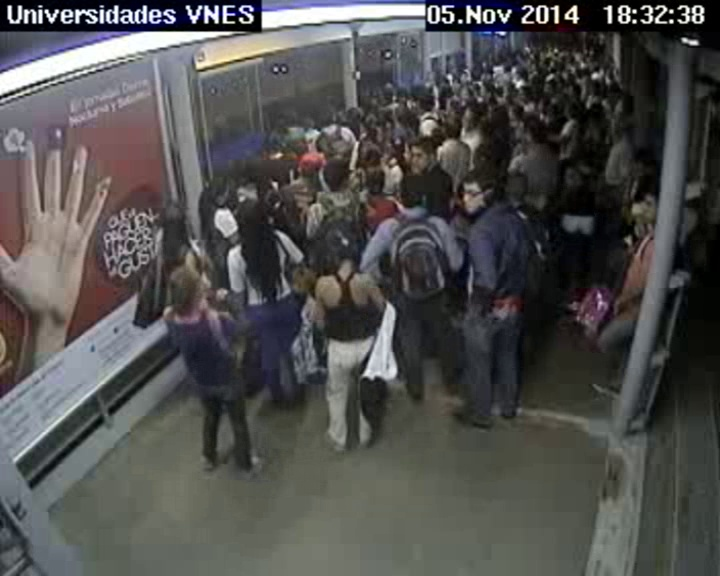person: (168, 267, 206, 309), (460, 175, 501, 212), (235, 198, 273, 236), (640, 187, 668, 225), (409, 139, 440, 172), (157, 204, 188, 237), (335, 235, 365, 268), (323, 158, 354, 188), (396, 178, 427, 207), (204, 175, 232, 207), (297, 152, 323, 177), (507, 171, 531, 197), (472, 147, 494, 173), (561, 162, 583, 185), (524, 121, 546, 143), (243, 157, 265, 179), (366, 171, 386, 193), (264, 139, 283, 159), (318, 108, 339, 126), (634, 151, 651, 172), (564, 101, 582, 120), (445, 119, 463, 138), (644, 162, 662, 181), (387, 138, 405, 157), (364, 148, 383, 166), (277, 110, 295, 128), (492, 106, 509, 124), (399, 111, 417, 128), (347, 107, 364, 124), (417, 98, 433, 115), (612, 127, 628, 143), (588, 79, 603, 96), (589, 104, 604, 120), (365, 128, 380, 144), (520, 85, 534, 99), (483, 125, 498, 138), (606, 88, 619, 102), (537, 96, 549, 111), (510, 106, 523, 119), (569, 86, 582, 99), (379, 111, 393, 123), (477, 103, 489, 116), (396, 93, 409, 105), (514, 69, 525, 80), (605, 74, 615, 85), (544, 57, 554, 67), (548, 79, 558, 89), (485, 83, 495, 93), (504, 95, 514, 105), (450, 101, 460, 111), (514, 51, 524, 61), (561, 57, 571, 66), (607, 57, 616, 67), (488, 97, 498, 106), (467, 97, 476, 107), (530, 52, 539, 62), (588, 47, 597, 56), (590, 63, 599, 72), (568, 74, 577, 83), (503, 64, 512, 73), (473, 84, 482, 93), (428, 72, 437, 81), (447, 88, 456, 97), (496, 86, 504, 96), (439, 86, 447, 96), (574, 52, 582, 61), (557, 62, 565, 70), (529, 62, 537, 70), (482, 62, 490, 70), (583, 55, 590, 63), (579, 60, 586, 68), (551, 68, 558, 76), (465, 89, 473, 96), (461, 74, 468, 82), (543, 45, 550, 52), (583, 48, 589, 55), (569, 55, 575, 62), (553, 48, 559, 55), (534, 46, 538, 50)
